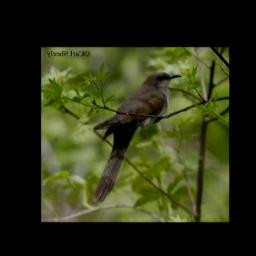Cuckoo: (93, 73, 182, 203)
